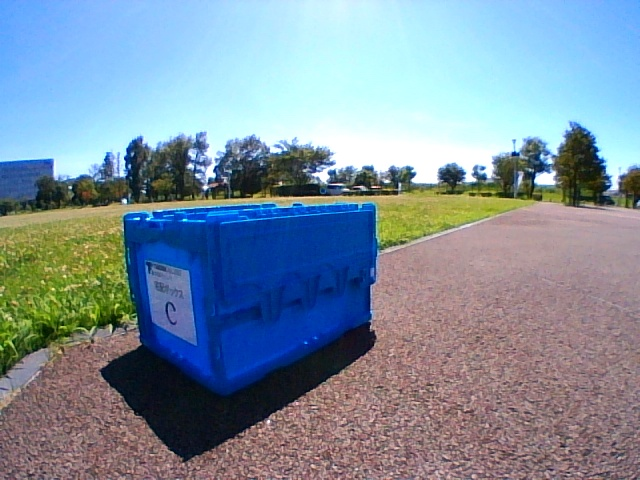blue_box: (123, 202, 378, 393)
tag_c: (152, 271, 186, 325)
